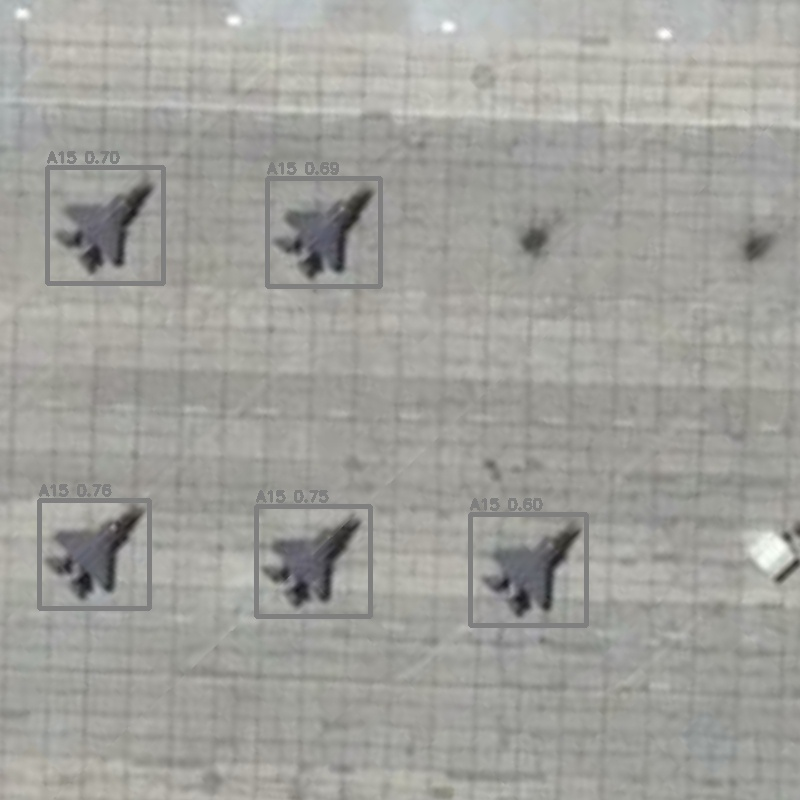A15: (47, 167, 163, 283), (470, 514, 586, 625), (256, 506, 370, 616), (267, 178, 380, 286), (39, 500, 149, 608)
